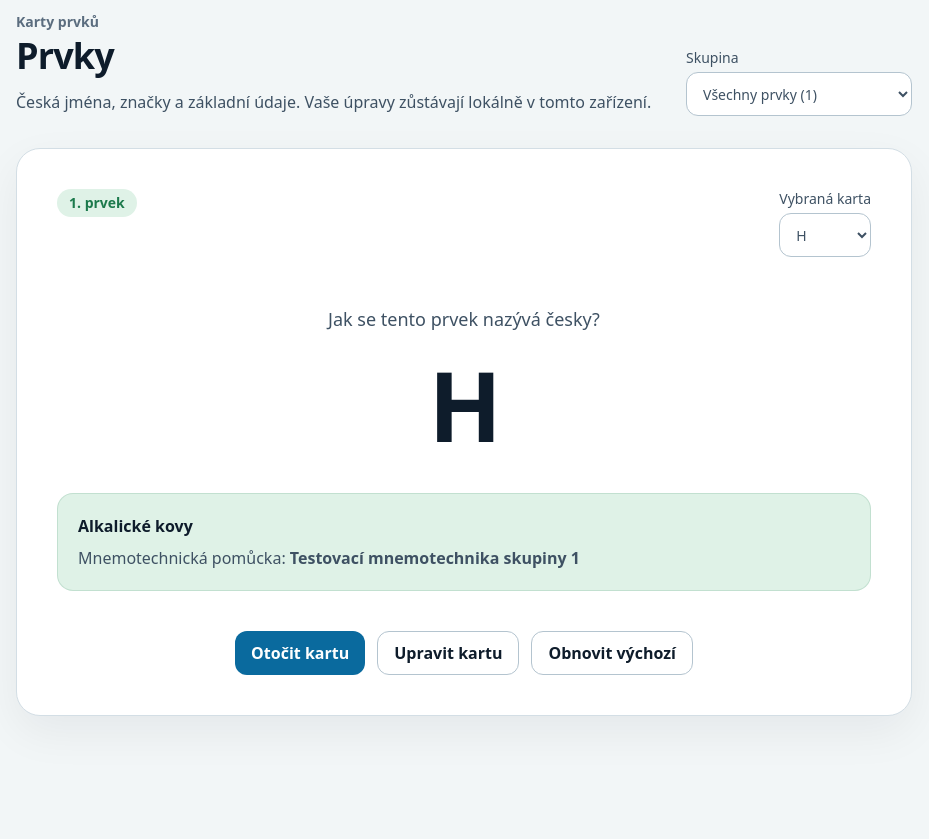
Test case: ElementFlashcards › shows the Czech name and the group mnemonic after flipping a card
Check: the dropdown labelled "Vybraná karta" shows "H", box [779, 213, 871, 257]
Check: the heading "Vodík" is not shown
Click the button "Otočit kartu" at (300,653), box [235, 631, 365, 675]
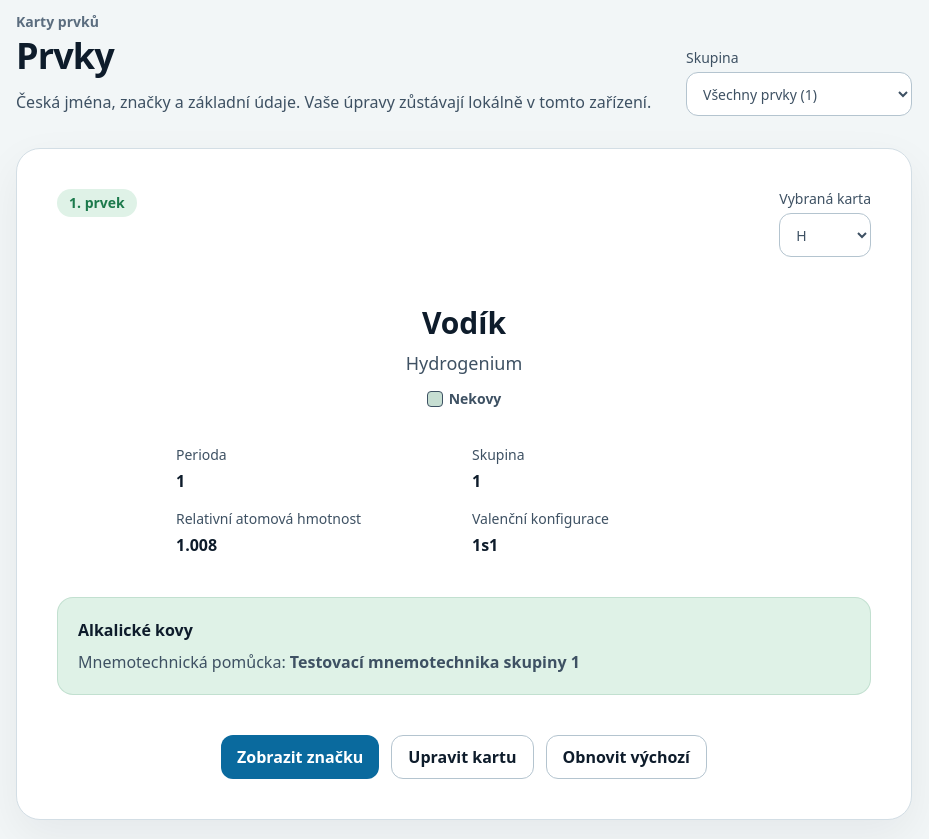
Check: the text "Testovací mnemotechnika skupiny 1" is shown, box [290, 651, 580, 673]
Check: the heading "Vodík" is shown, box [422, 302, 506, 343]
Check: the text "Nekovy" is shown, box [449, 389, 501, 409]
